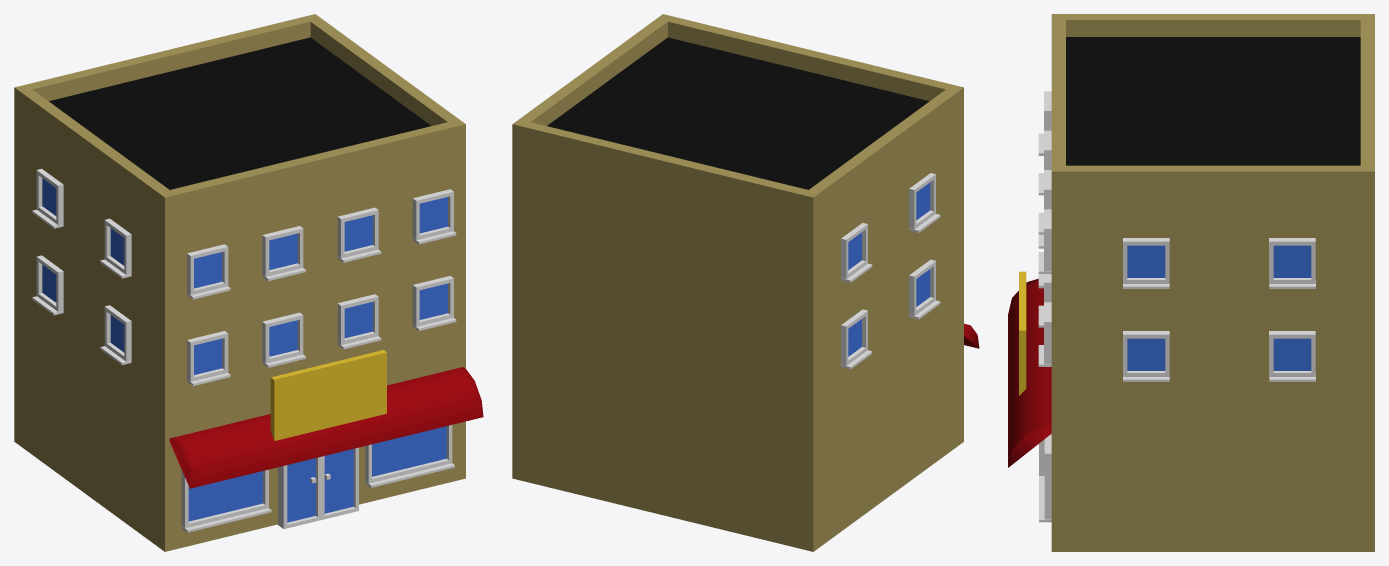
File: sklep.fbx
The picture shows the model from 3 angles, left to right: view 1: azimuth 30°, elevation 25°; view 2: azimuth 150°, elevation 25°; view 3: azimuth 270°, elevation 25°; orthographic projection. The views are drawn at different scales.
Visible parts, largest first — view 1: Cube, Plane, Drzwi, Window1, Window1.001, Cube.008, Cube.002, Cube.006, Cube.007, Cube.001, Cube.003, Cube.005 (+5 smaller); view 2: Cube, Cube.011, Cube.012, Cube.015, Cube.016; view 3: Cube, Plane, Cube.009, Cube.010, Cube.013, Cube.014, Window1.001, Cube.003, Cube.008, Cube.005, Cube.006, Cube.007.
Part boxes in pixels (x1,y1,x2,y2): Cube: (14,14,465,551); Plane: (169,350,483,488); Drzwi: (277,447,358,528); Window1: (181,469,271,532); Window1.001: (365,425,454,487); Cube.008: (412,189,456,244); Cube.002: (337,294,381,349); Cube.006: (262,226,305,281); Cube.007: (337,207,381,262); Cube.001: (262,312,305,367); Cube.003: (412,276,456,330); Cube.005: (187,244,230,299); Cube: (512,14,963,551); Cube.011: (841,309,872,369); Cube.012: (909,259,940,319); Cube.015: (841,223,872,282); Cube.016: (909,173,940,232); Cube: (1051,14,1374,551); Plane: (1008,271,1051,467); Cube.009: (1123,331,1169,381); Cube.010: (1269,331,1315,381); Cube.013: (1123,238,1169,288); Cube.014: (1269,238,1315,288); Window1.001: (1039,434,1051,522); Cube.003: (1038,302,1051,366); Cube.008: (1038,209,1051,273); Cube.005: (1038,91,1051,155); Cube.006: (1038,130,1051,195); Cube.007: (1038,170,1051,234).
Bounding box in the file's own units: 860 × 901 × 787.
